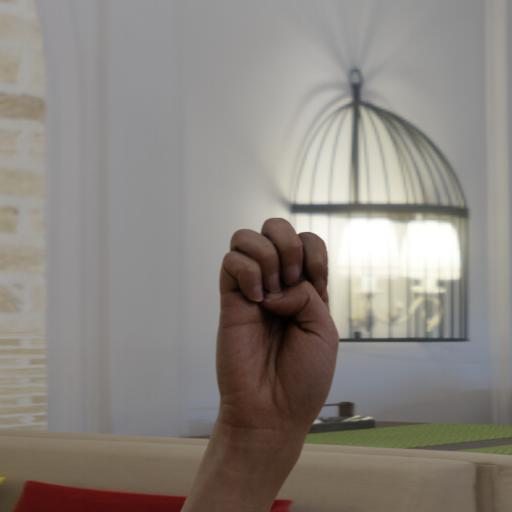E: (206, 206, 346, 444)
